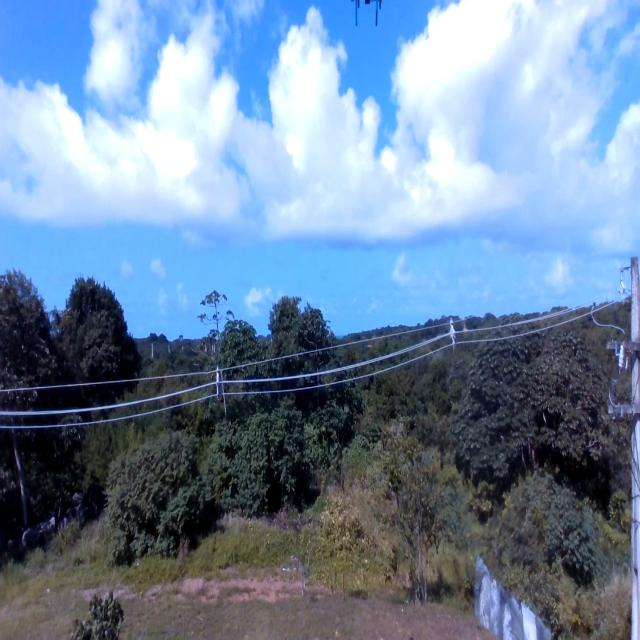-uav-: (352, 0, 383, 35)
